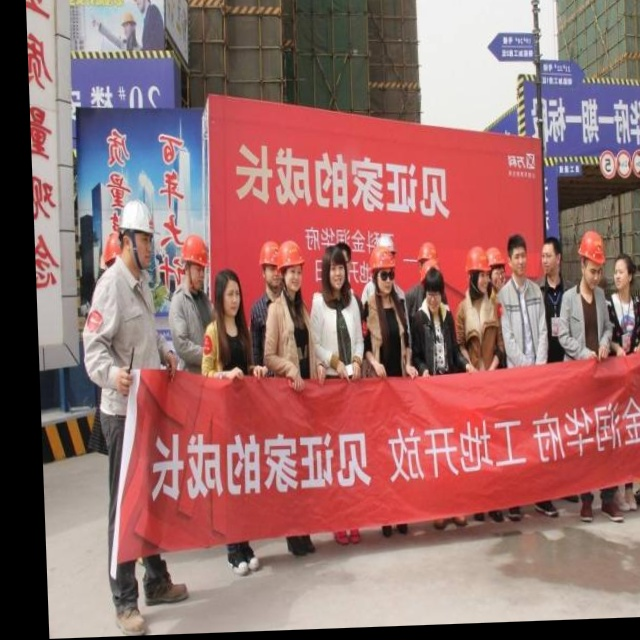Con_Casco: (467, 245, 494, 294)
Sin_Casco_Mascarrilla: (321, 244, 348, 299)
